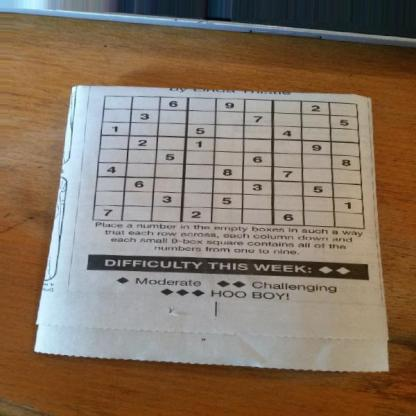sudoku: (91, 92, 368, 232)
